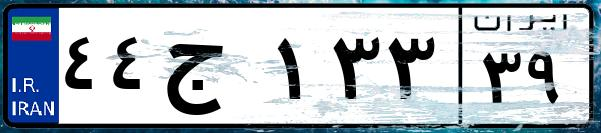1: (270, 28, 330, 110)
3: (385, 28, 445, 110), (330, 28, 385, 110), (475, 38, 525, 113)
4: (57, 26, 110, 100), (110, 28, 158, 98)
9: (525, 38, 570, 115)
ج: (158, 20, 270, 120)
